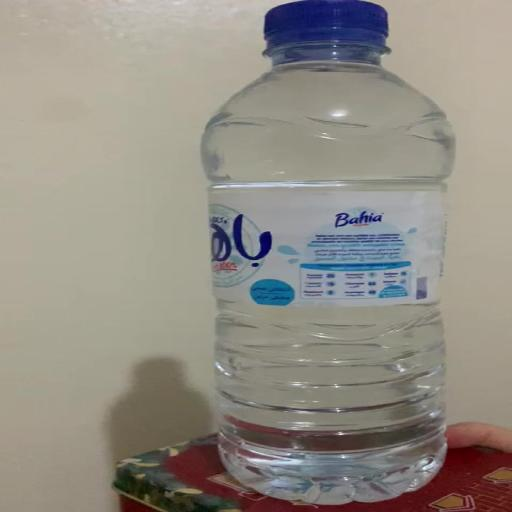bouteille conformite: (185, 1, 473, 503)
